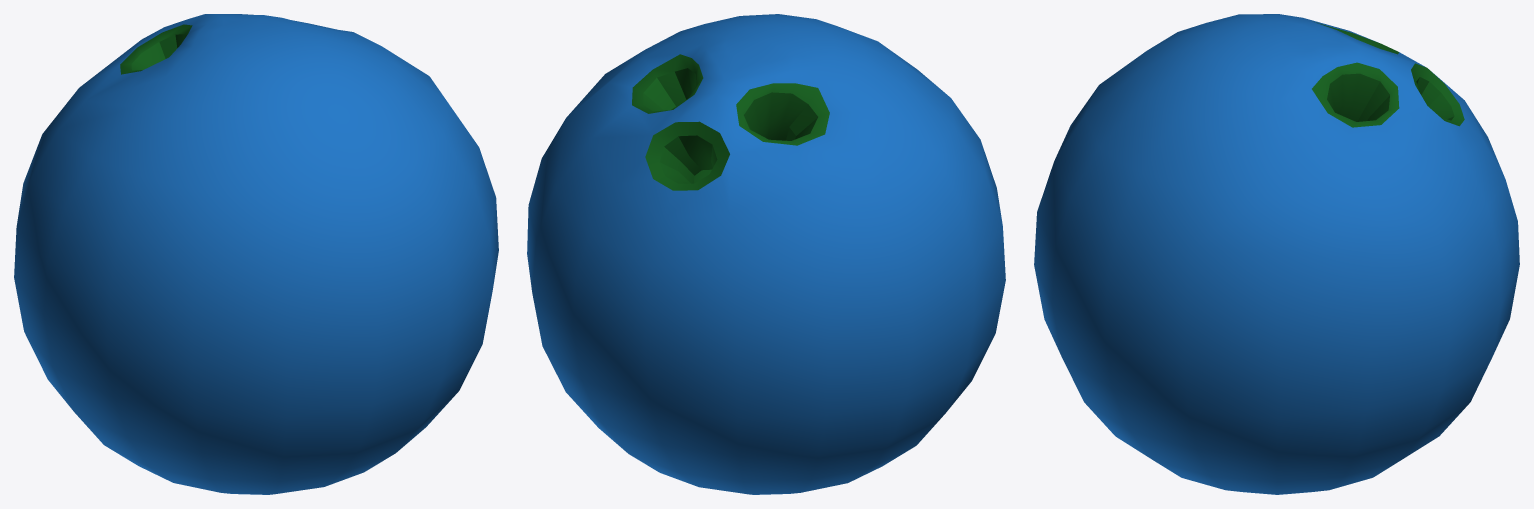
Rendered from Bowling ball.FBX.
3 views of the same model, side by side, from view 1: azimuth 30°, elevation 25°; view 2: azimuth 150°, elevation 25°; view 3: azimuth 270°, elevation 25° (orthographic).
Visible parts, largest first — view 1: Bowling ball; view 2: Bowling ball; view 3: Bowling ball.
Boxes of the visible parts, x1,y1,x2,y2 form: Bowling ball: (14,14,498,494); Bowling ball: (527,14,1005,494); Bowling ball: (1034,14,1519,494).
Bounding box in the file's own units: 999 × 998 × 981.
